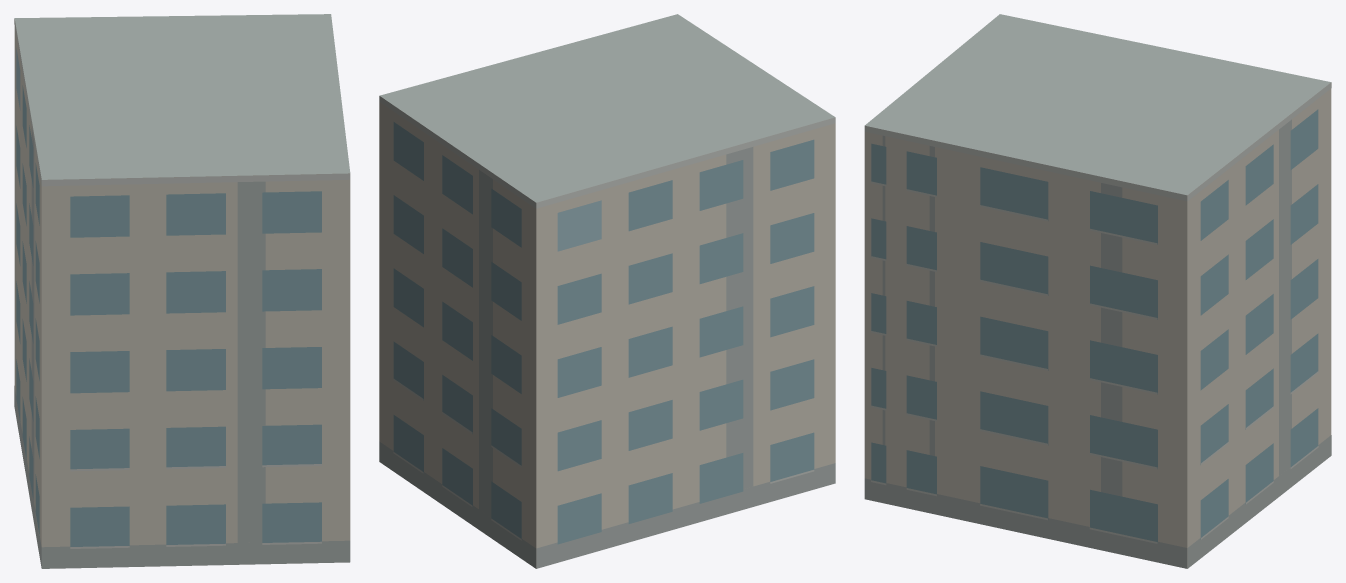
The model's file is survey-upis-32733922.glb.
3 views of the same model, side by side, from view 1: azimuth 30°, elevation 25°; view 2: azimuth 150°, elevation 25°; view 3: azimuth 270°, elevation 25° (orthographic). The views are drawn at different scales.
Visible parts, largest first — view 1: survey-upis-32733922.tmp; view 2: survey-upis-32733922.tmp; view 3: survey-upis-32733922.tmp.
Boxes of the visible parts, x1,y1,x2,y2 form: survey-upis-32733922.tmp: (14,14,350,568); survey-upis-32733922.tmp: (379,14,835,568); survey-upis-32733922.tmp: (864,14,1331,568).
Bounding box in the file's own units: 15.52 × 14.9 × 16.89.
